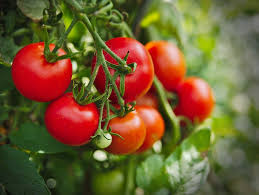tomato: (94, 35, 155, 103), (12, 42, 72, 98), (99, 101, 146, 156), (46, 93, 100, 140), (172, 77, 213, 127), (147, 38, 186, 87)
